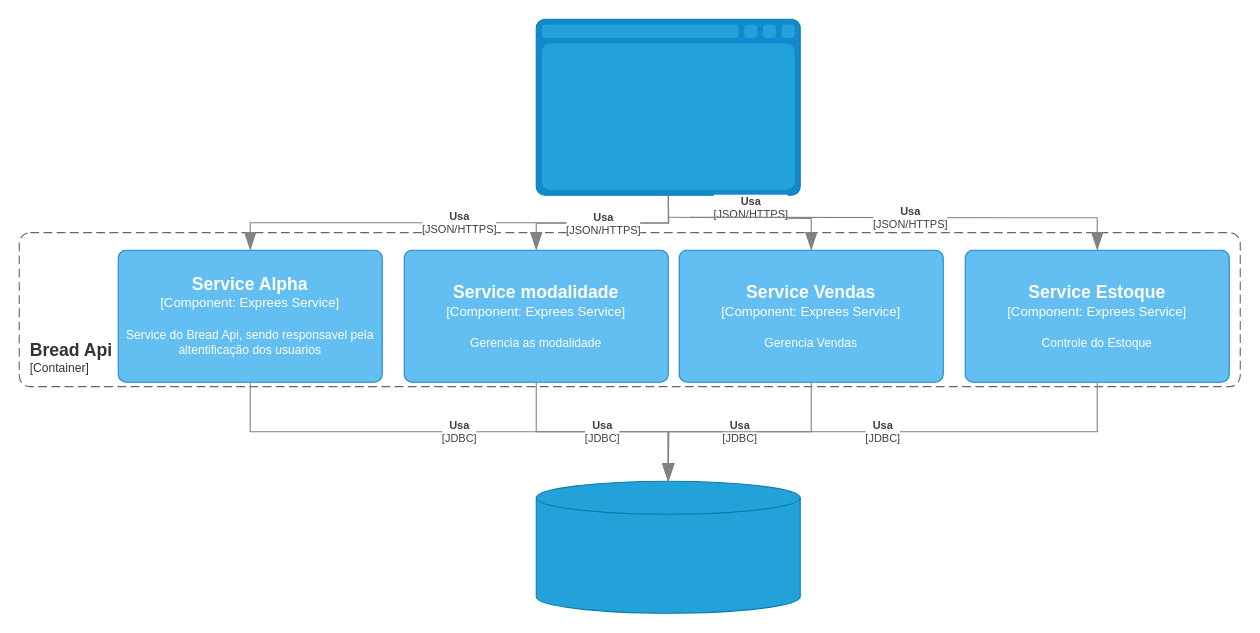
The diagram is 1260 pixels wide and 633 high, and some of its shapes have lost their labels. Each missing label, with the centre of its shape:
"Banco de Dados [Container: Oracle Database] Banco de dados do bread systen" belongs at point (667, 546).
"Bread Web [Container: Angular.] Front-end Bread systen" belongs at point (667, 106).
